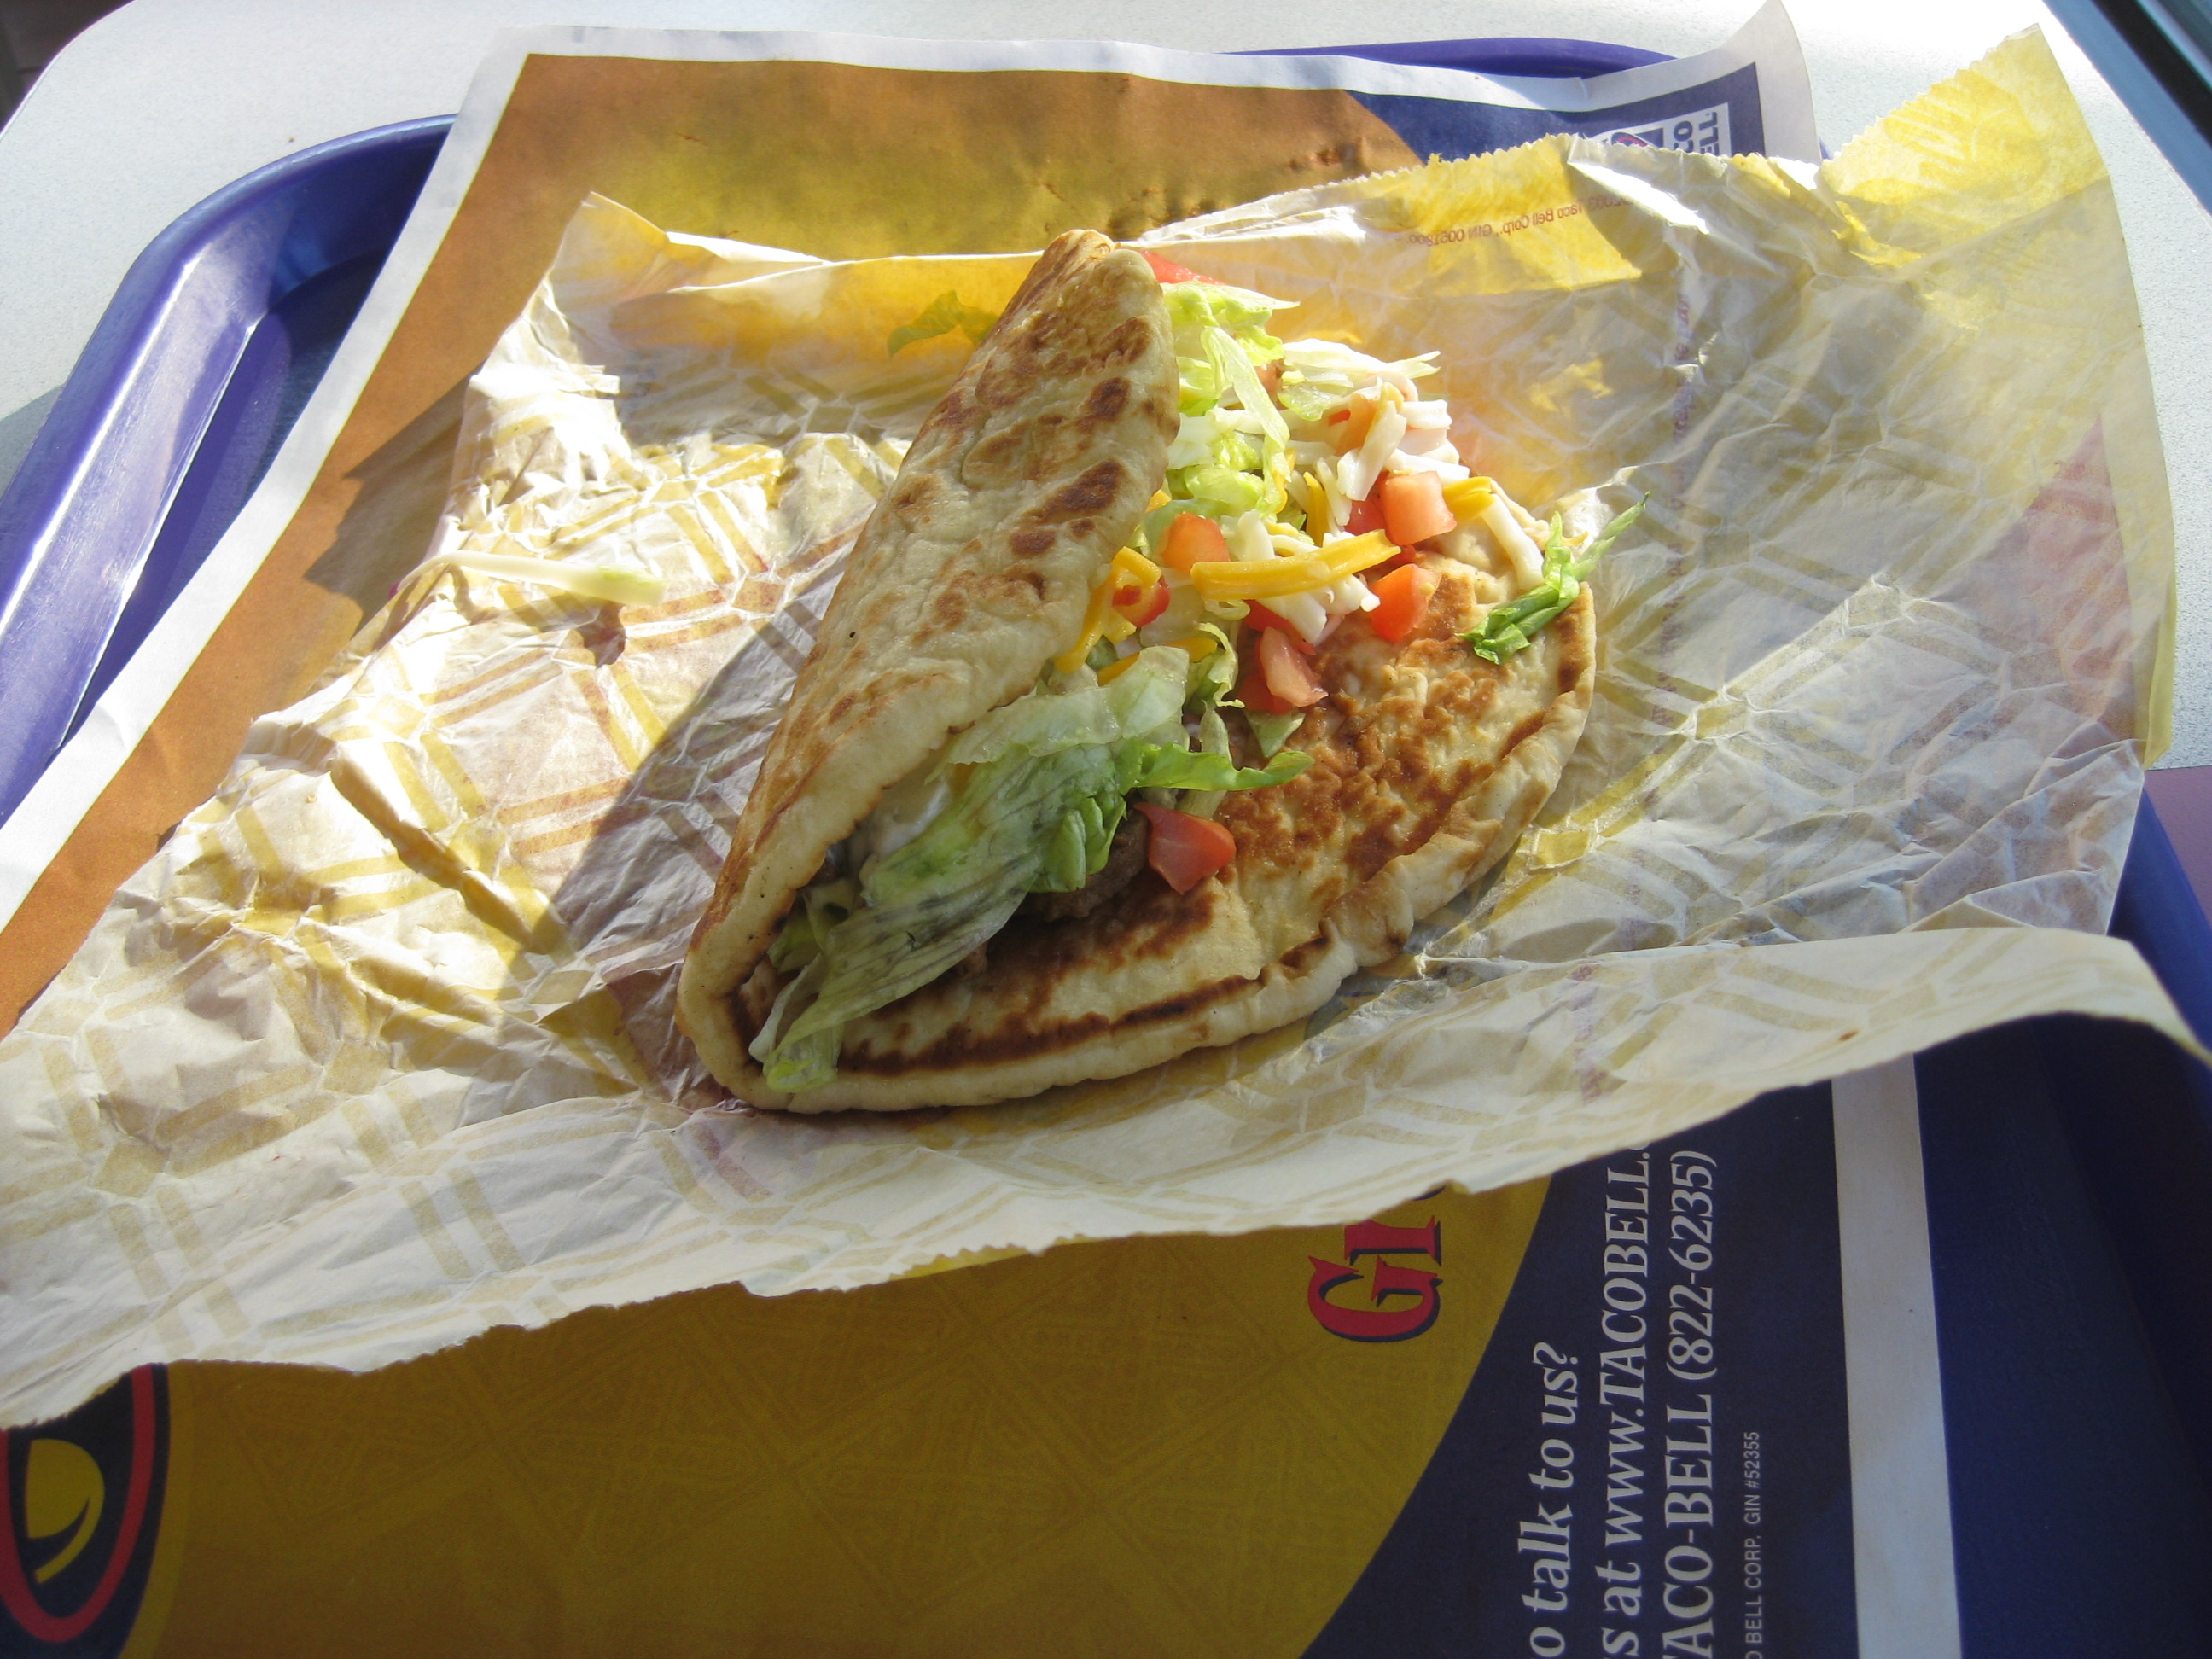taco: (669, 207, 1714, 1117)
